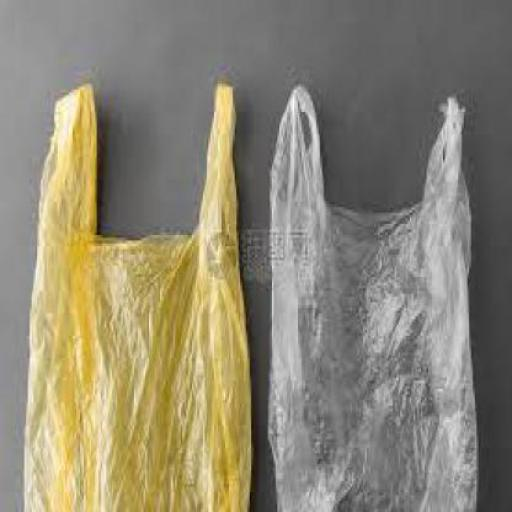plastic: (20, 78, 252, 509), (266, 84, 477, 510)
